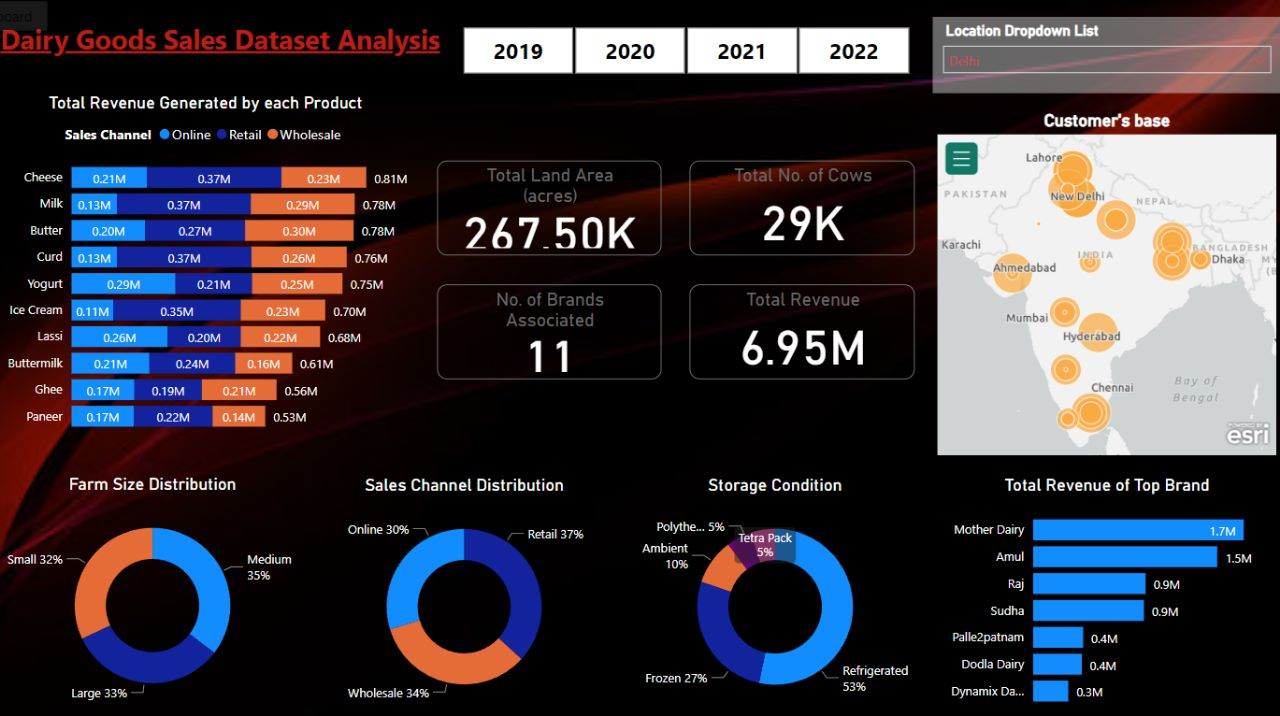

Layout of this report page (visuals, bound fields, positions):
{"tool":"powerbi","page":{"name":"Page 1","canvas":[1280,720],"ordinal":0},"visuals":[{"type":"slicer","fields":{"Values":["dairy_dataset.Location"]},"box":[932.9,22.9,347.1,75.7],"z":0},{"type":"textbox","box":[0,22.5,466.5,53],"z":1000},{"type":"card","title":"Total Land Area (acres)","fields":{"Values":["Sum(dairy_dataset.Total Land Area (acres))"]},"box":[439.4,166.8,223.1,94.6],"z":2000},{"type":"card","title":"Total Revenue","fields":{"Values":["Sum(dairy_dataset.Approx. Total Revenue(INR))"]},"box":[690.7,289.6,224.2,94.6],"z":3000},{"type":"card","title":"No. of Brands Associated","fields":{"Values":["Count(dairy_dataset.Brand)"]},"box":[439.4,289.6,223.1,94.6],"z":4000},{"type":"card","title":"Total No. of Cows","fields":{"Values":["Sum(dairy_dataset.Number of Cows)"]},"box":[690.7,166.8,224.2,94.6],"z":5000},{"type":"donutChart","title":"Sales Channel Distribution","fields":{"Category":["dairy_dataset.Sales Channel"],"Y":["CountNonNull(dairy_dataset.Sales Channel)"]},"box":[311.4,478.6,310,241.4],"z":6000},{"type":"barChart","title":"Total Revenue of Top Brand","fields":{"Category":["dairy_dataset.Brand"],"Y":["Sum(dairy_dataset.Approx. Total Revenue(INR))"]},"box":[932.9,478.6,347.1,241.4],"z":7000},{"type":"donutChart","title":"Storage Condition","fields":{"Category":["dairy_dataset.Storage Condition"],"Y":["CountNonNull(dairy_dataset.Storage Condition)"]},"box":[618.6,478.6,314.3,241.4],"z":8000},{"type":"slicer","fields":{"Values":["dairy_dataset.Date.Variation.Date Hierarchy.Year"]},"box":[439.4,27,493.5,59.7],"z":9000},{"type":"esriVisual","title":"Customer''s base","fields":{"Location":["dairy_dataset.Customer Location"],"Size":["Sum(dairy_dataset.Approx. Total Revenue(INR))"]},"box":[932.9,115.7,347.1,348.6],"z":10000},{"type":"barChart","title":"Total Revenue Generated by each Product","fields":{"Category":["dairy_dataset.Product Name"],"Y":["Sum(dairy_dataset.Approx. Total Revenue(INR))"],"Series":["dairy_dataset.Sales Channel"]},"box":[0,99,418.1,348.4],"z":11000},{"type":"donutChart","title":"Farm Size Distribution","fields":{"Category":["dairy_dataset.Farm Size"],"Y":["CountNonNull(dairy_dataset.Farm Size)"]},"box":[1.2,478,310.5,242],"z":11001}]}

Visuals, with their boxes in screenshot pixels (x1, y1, x2, y2), scaled from the page's 1280x720 canvas onto the 1280x716 screenshot:
slicer - dairy_dataset.Location: region(933, 23, 1279, 98)
textbox: region(0, 22, 466, 75)
"Total Land Area (acres)" card: region(439, 166, 662, 260)
"Total Revenue" card: region(691, 288, 915, 382)
"No. of Brands Associated" card: region(439, 288, 662, 382)
"Total No. of Cows" card: region(691, 166, 915, 260)
"Sales Channel Distribution" donutChart: region(311, 476, 621, 715)
"Total Revenue of Top Brand" barChart: region(933, 476, 1279, 715)
"Storage Condition" donutChart: region(619, 476, 933, 715)
slicer - dairy_dataset.Date.Variation.Date Hierarchy.Year: region(439, 27, 933, 86)
"Customer''s base" esriVisual: region(933, 115, 1279, 462)
"Total Revenue Generated by each Product" barChart: region(0, 98, 418, 445)
"Farm Size Distribution" donutChart: region(1, 475, 312, 715)
